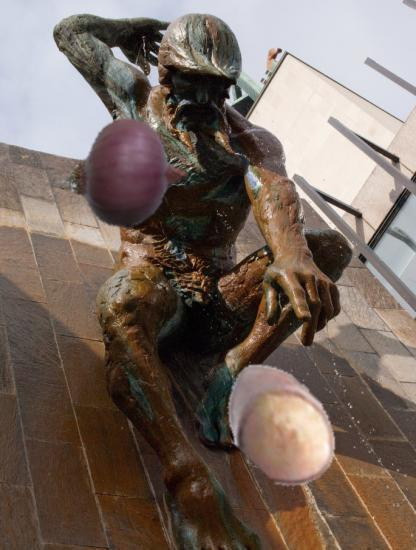Hazelnut: (210, 356, 348, 494)
Onion: (55, 107, 189, 241)
